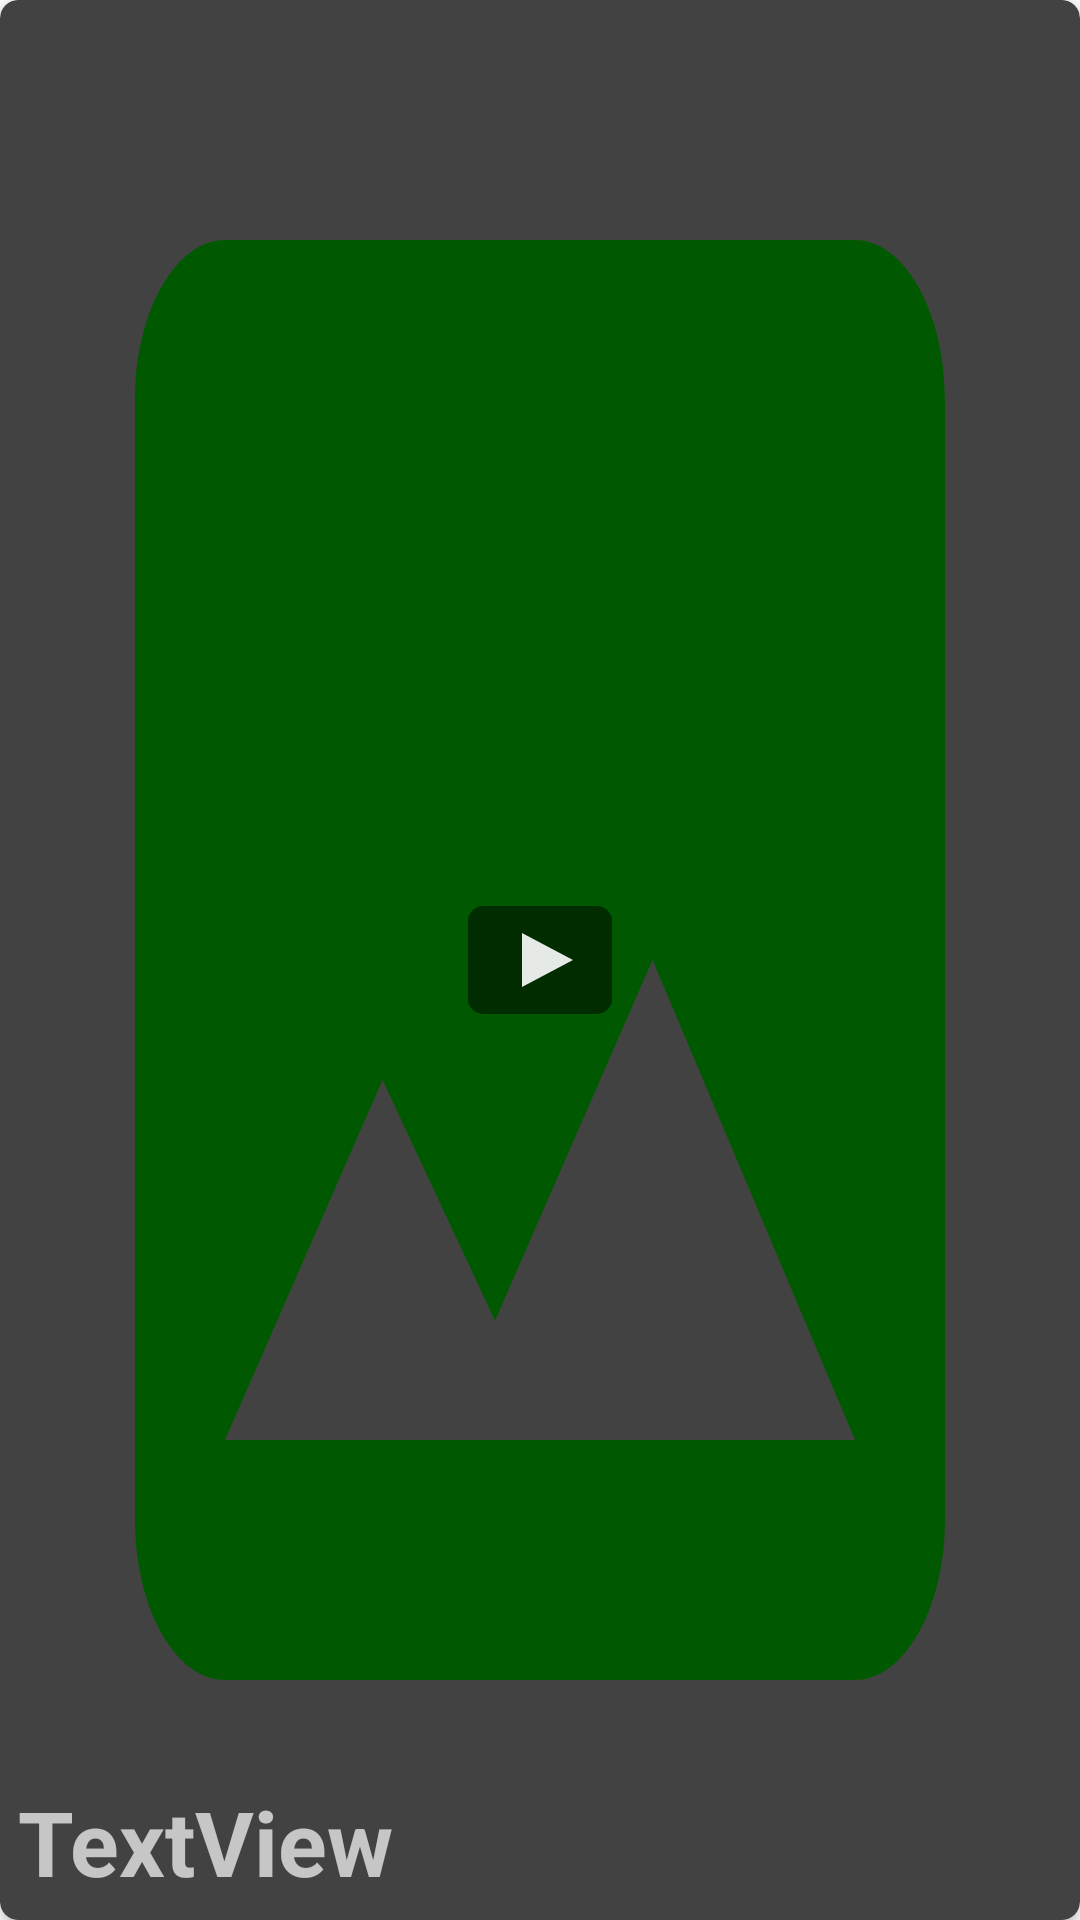

Screen size 1080×1920. Icon name, then its center in pixels as (x,y):
play: (540,960)
